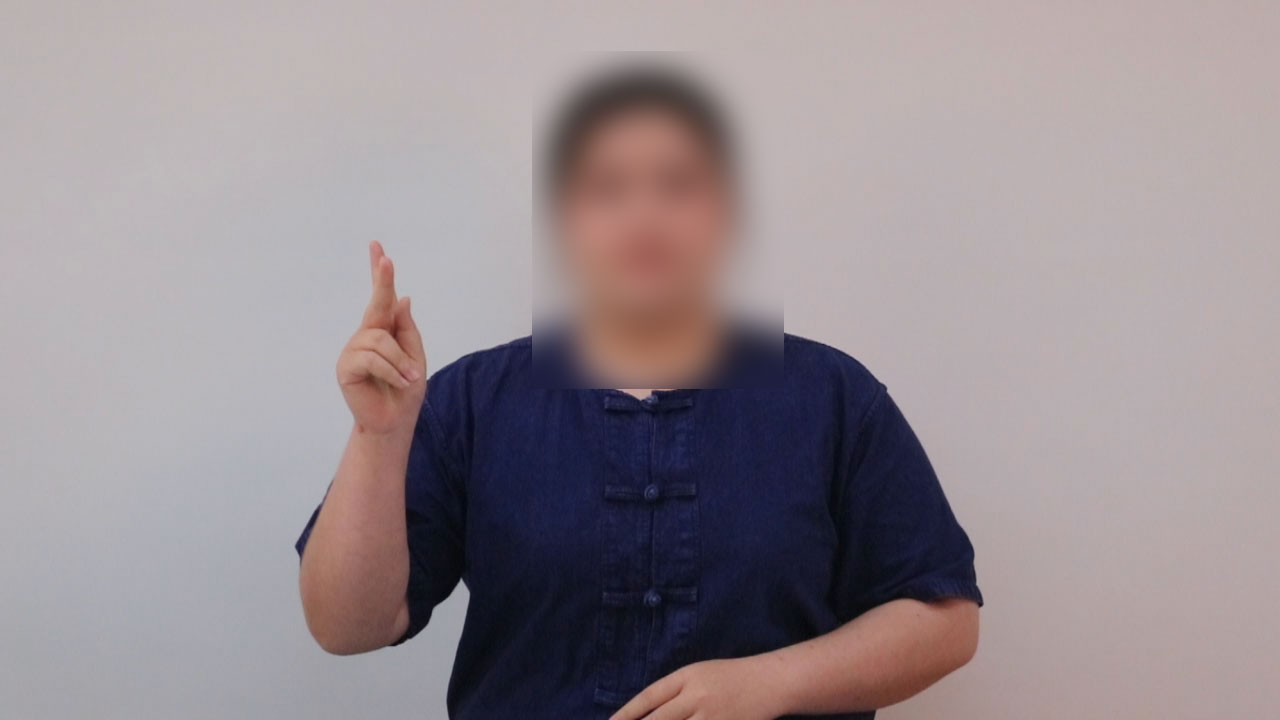ko: (310, 237, 450, 435)
